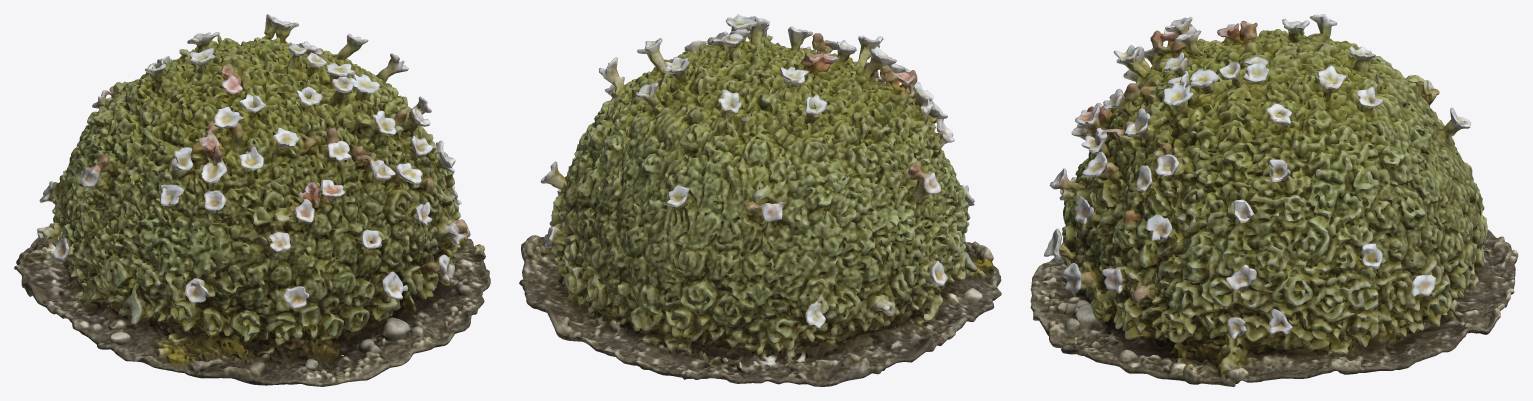
File: alpine-cushion-cluster-v21.glb
3 views of the same model, side by side, from view 1: azimuth 30°, elevation 25°; view 2: azimuth 150°, elevation 25°; view 3: azimuth 270°, elevation 25° (orthographic). The views are drawn at different scales.
Parts seen in each view (by area): view 1: geometry_0; view 2: geometry_0; view 3: geometry_0.
Boxes of the visible parts, <box> form: geometry_0: <box>14,14,490,386</box>; geometry_0: <box>519,14,1001,386</box>; geometry_0: <box>1030,14,1518,386</box>.
Size of the model in its own units: 0.2999 by 0.1817 by 0.2996.
Materials: 1 (1 with a texture image).
